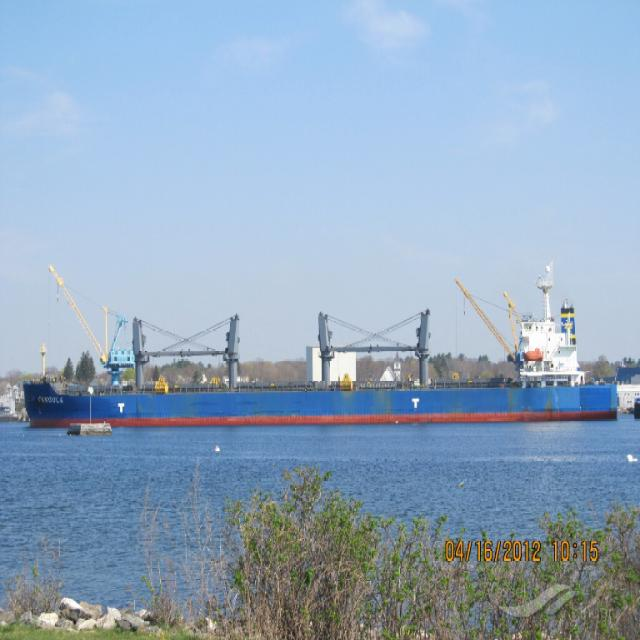OCR: (28, 390, 69, 410)
